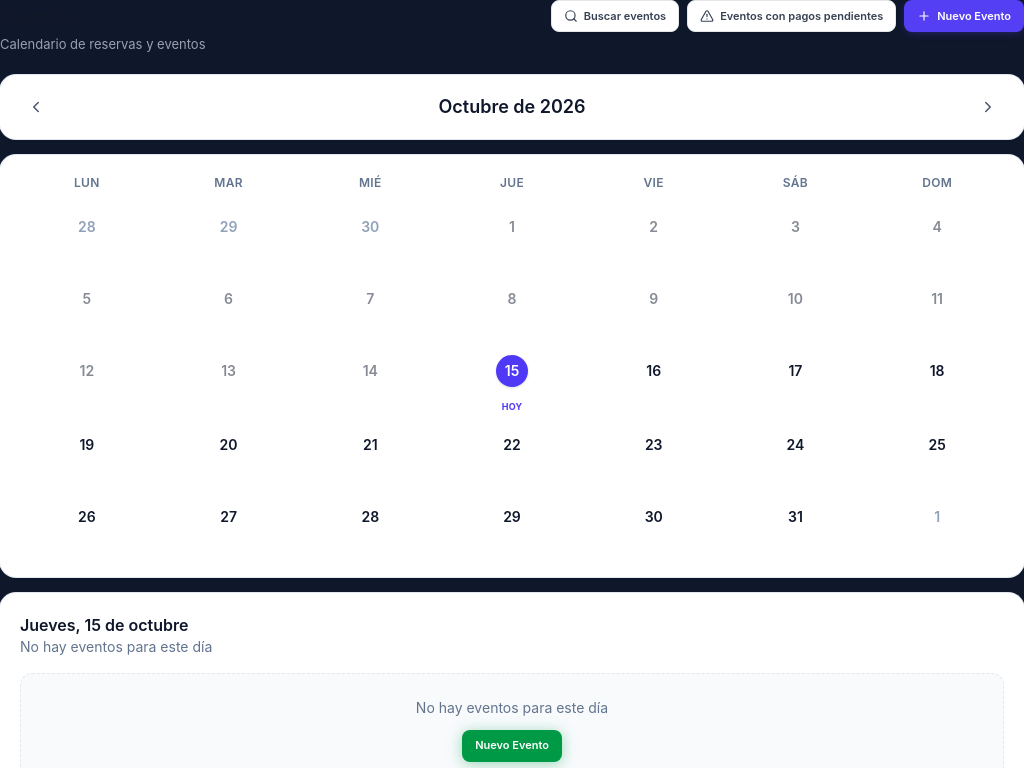
EventosPage › muestra 7 digitos cuando cambia el codigo en el alta de cliente del evento
Step 1. Click the 1st button "Nuevo Evento" → click(964, 16), box [904,0,1023,32]
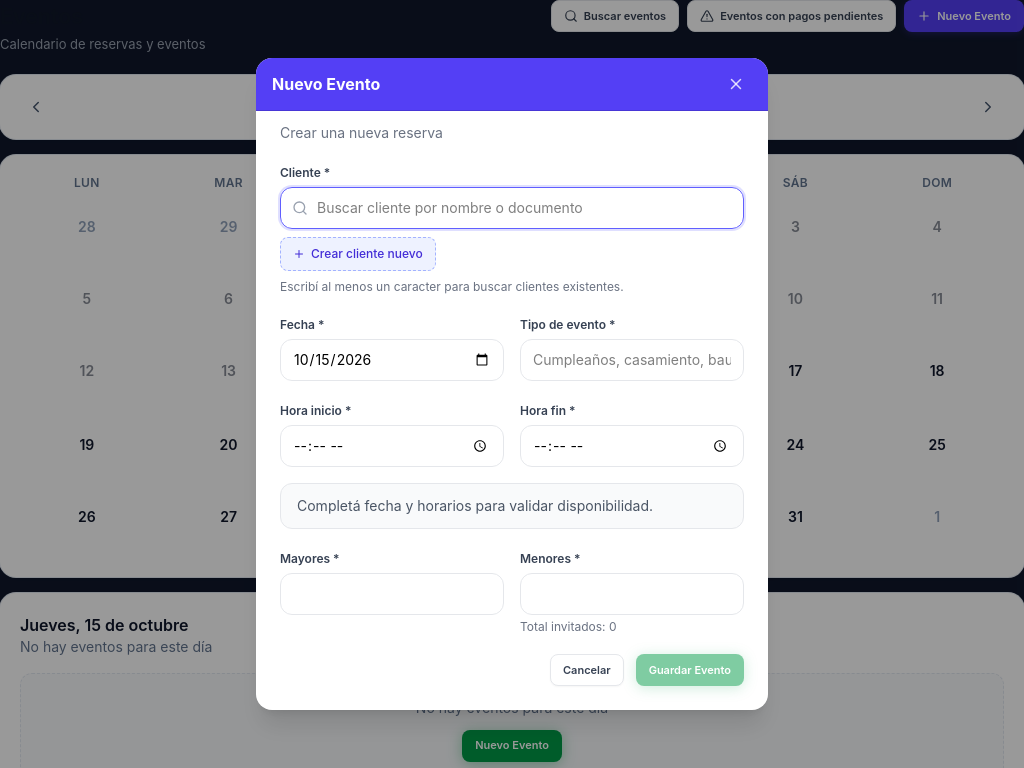
Step 2. Click the button "Crear cliente nuevo" → click(358, 254), box [280,237,436,271]
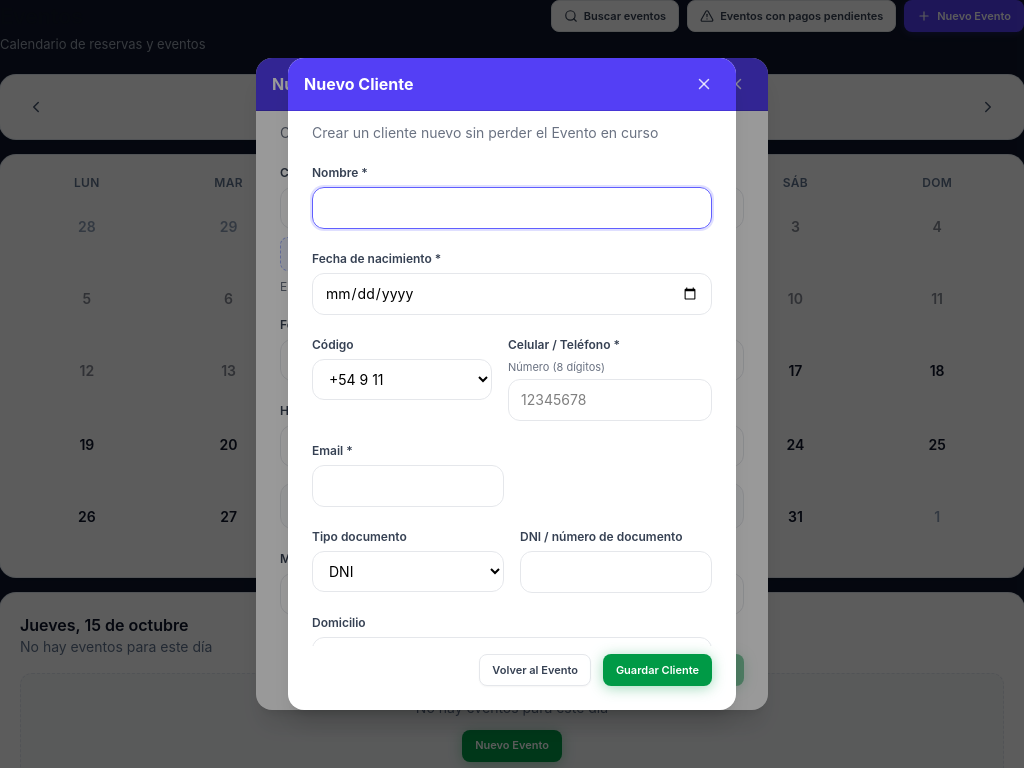
Step 3. Select "+54 9 221" in the dropdown labelled "Código" → (402, 379), box [312,359,492,400]
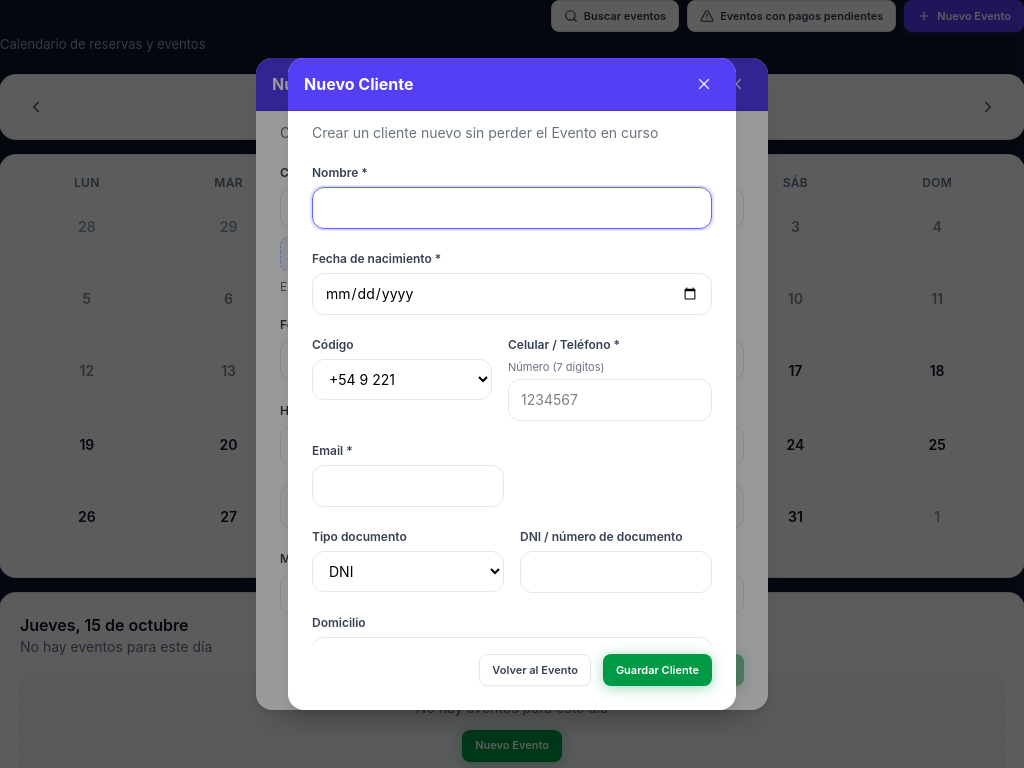
Check: the field with placeholder "1234567" is shown, box [508,379,712,421]
Check: the text "Número (7 dígitos)" is shown, box [508,360,604,374]
